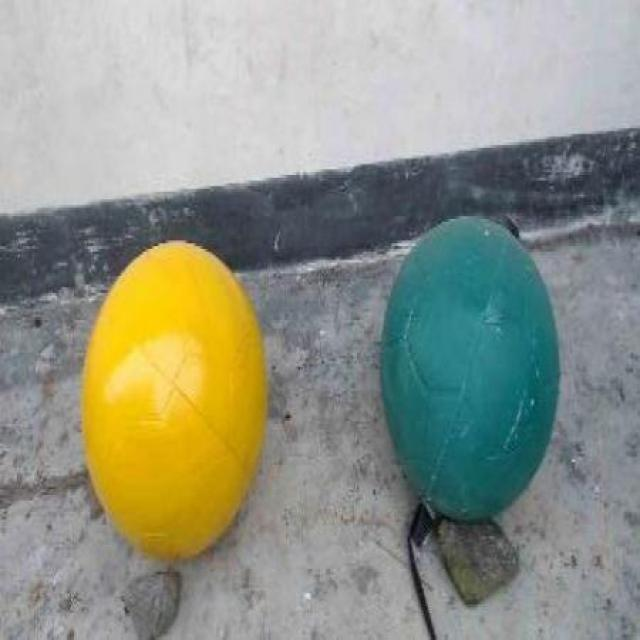buoy: (81, 240, 266, 560), (379, 211, 560, 521)
